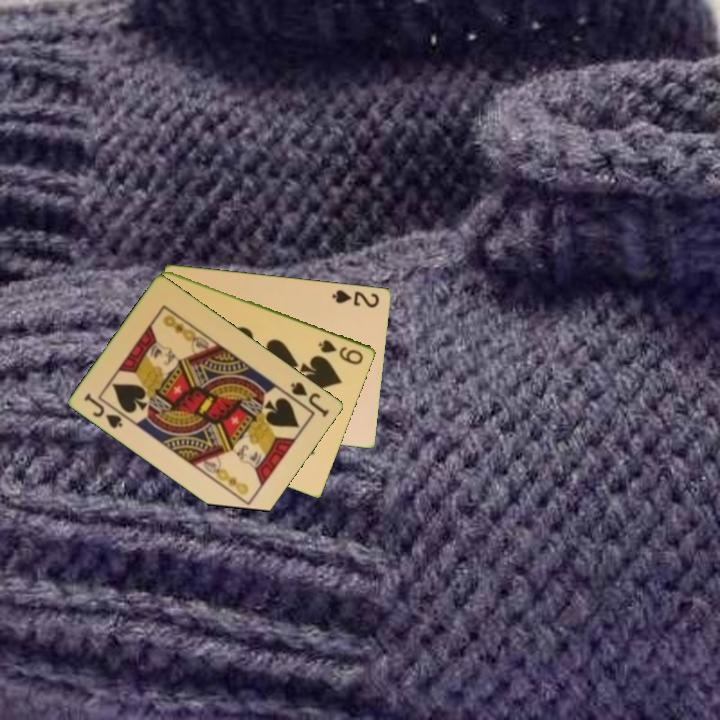2s: (329, 286, 382, 310)
9s: (315, 336, 366, 367)
Js: (81, 389, 126, 432), (287, 378, 332, 420)
